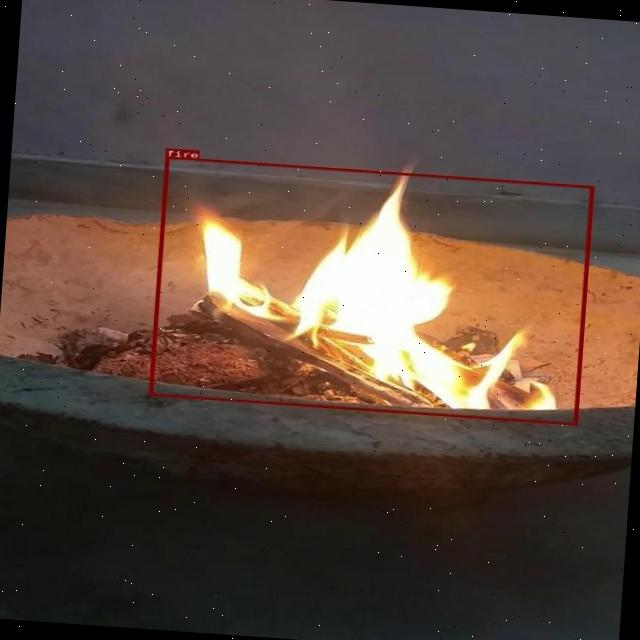fire: (147, 156, 593, 424)
